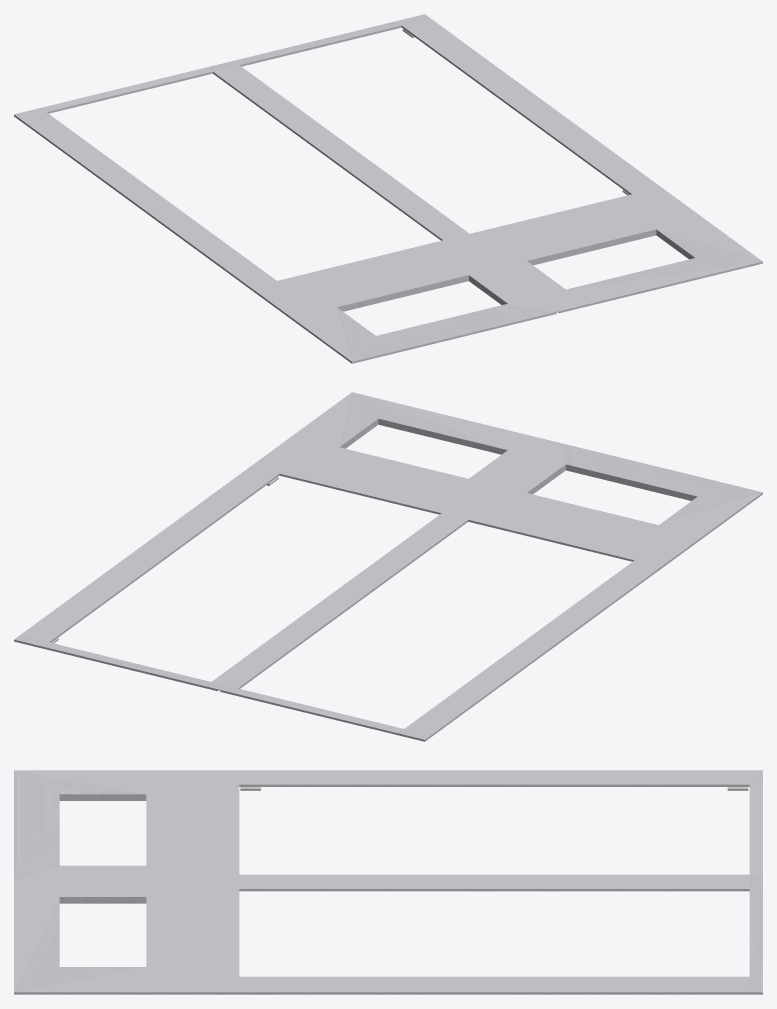
The model's file is SM_Window_Frame.obj.
3 renders of one model, top to bottom at view 1: azimuth 30°, elevation 25°; view 2: azimuth 150°, elevation 25°; view 3: azimuth 270°, elevation 25°, orthographic. The views are drawn at different scales.
Parts seen in each view (by area): view 1: SM_Window_Frame; view 2: SM_Window_Frame; view 3: SM_Window_Frame.
Part boxes in pixels (x1=…): SM_Window_Frame: x1=14, y1=14, x2=762, y2=363; SM_Window_Frame: x1=14, y1=392, x2=762, y2=741; SM_Window_Frame: x1=14, y1=770, x2=762, y2=994.
Size of the model in its own units: 2.14 by 0.0385 by 3.04.
